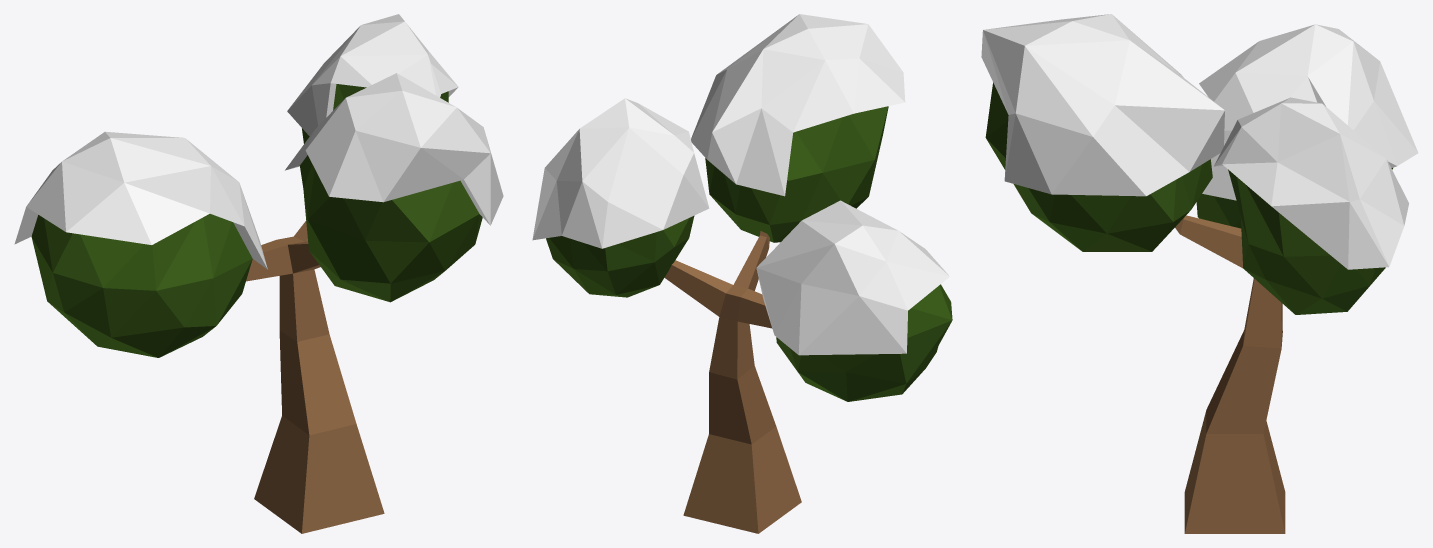
File: low_poly_tree_with_snow_on_top.glb
3 renders of one model, left to right at view 1: azimuth 30°, elevation 25°; view 2: azimuth 150°, elevation 25°; view 3: azimuth 270°, elevation 25°, orthographic. The views are drawn at different scales.
Parts seen in each view (by area): view 1: Cube; view 2: Cube; view 3: Cube.
Part boxes in pixels (x1,y1,x2,y2): Cube: (14,14,503,533); Cube: (532,14,952,533); Cube: (981,14,1418,533).
Bounding box in the file's own units: 1014 × 1087 × 871.
Materials: 1 (1 with a texture image).
